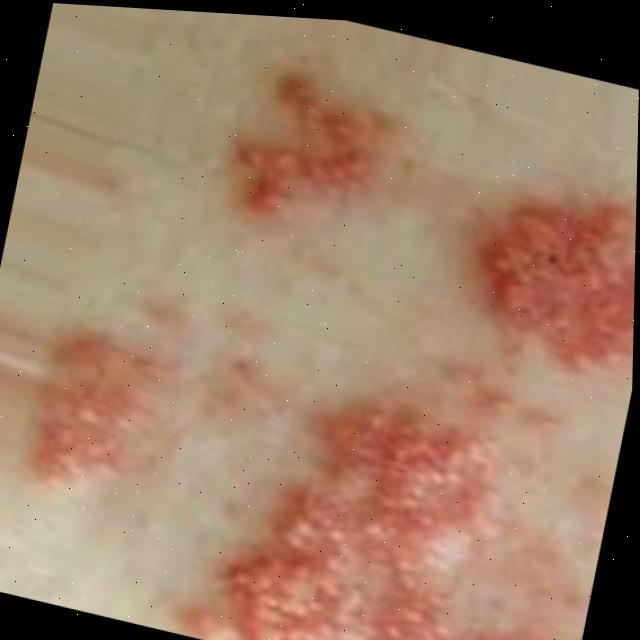Shingles: (180, 367, 592, 640), (457, 172, 637, 386), (221, 59, 397, 238), (21, 325, 182, 507)
